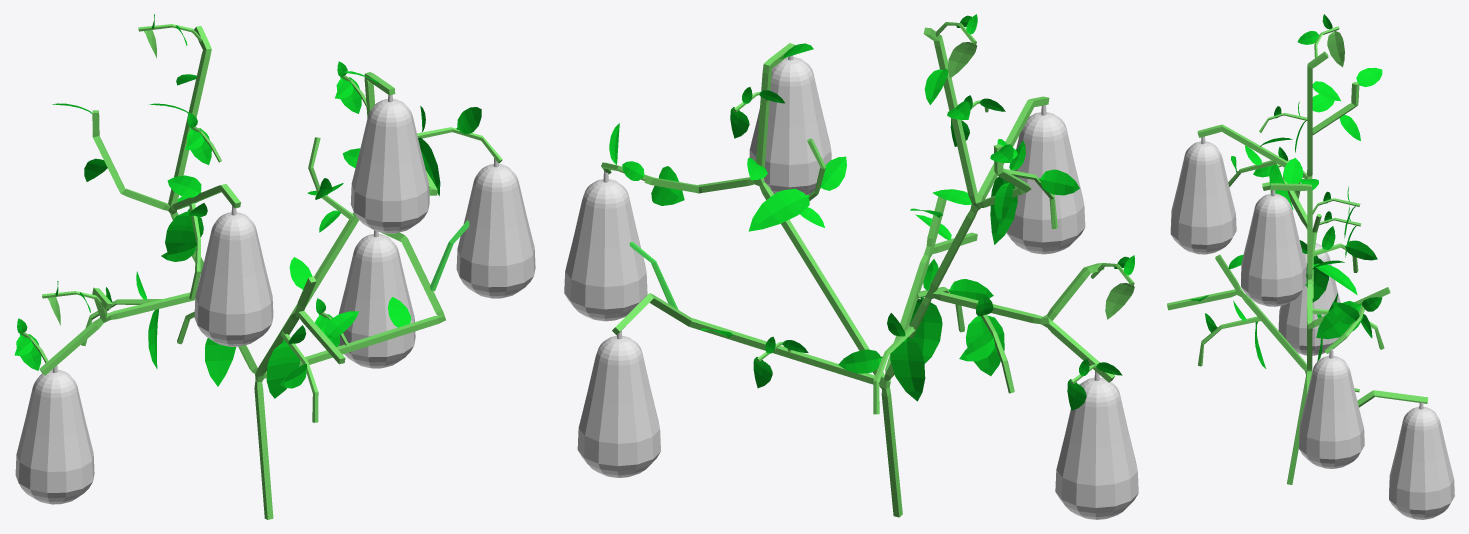
File: Avocado.fbx
3 renders of one model, left to right at view 1: azimuth 30°, elevation 25°; view 2: azimuth 150°, elevation 25°; view 3: azimuth 270°, elevation 25°, orthographic. The views are drawn at different scales.
Parts seen in each view (by area): view 1: Avocado Tree; view 2: Avocado Tree; view 3: Avocado Tree.
Part boxes in pixels (x1,y1,x2,y2): Avocado Tree: [14, 14, 535, 519]; Avocado Tree: [564, 14, 1138, 519]; Avocado Tree: [1167, 14, 1454, 519].
Size of the model in its own units: 827 by 778 by 471.
